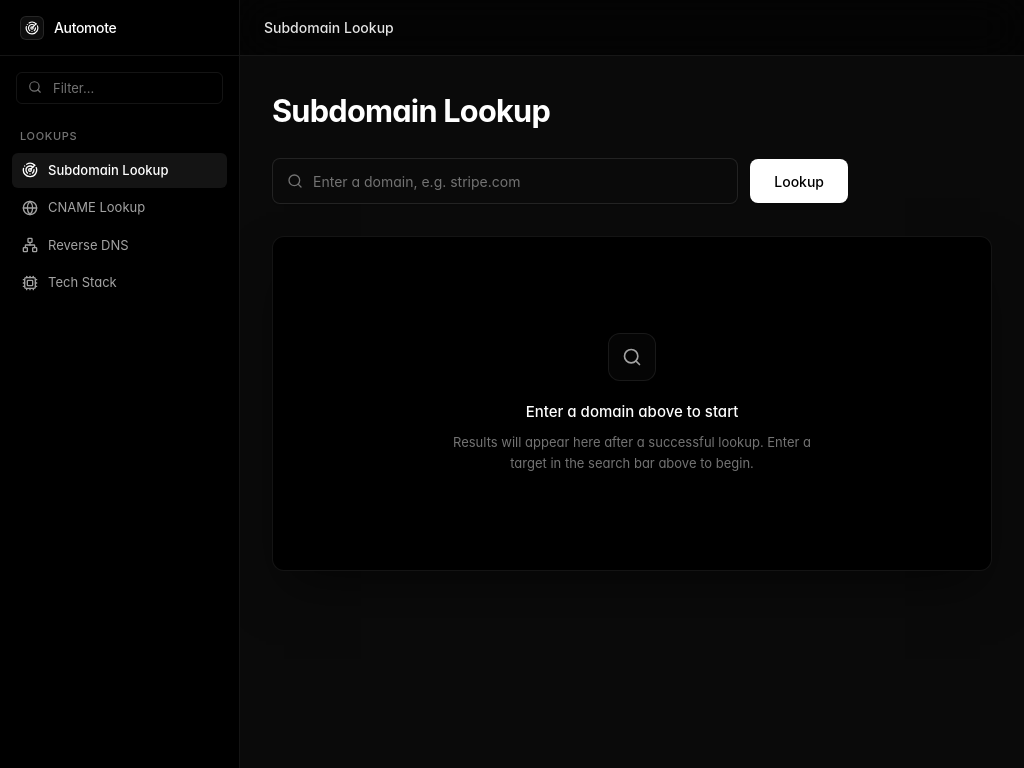
Test case: DashboardShell › shows an inline validation error for an invalid domain
The image size is (1024, 768).
Type "google" into the search field named "search or inspect a domain" at (505,181), box [273,159,737,203]
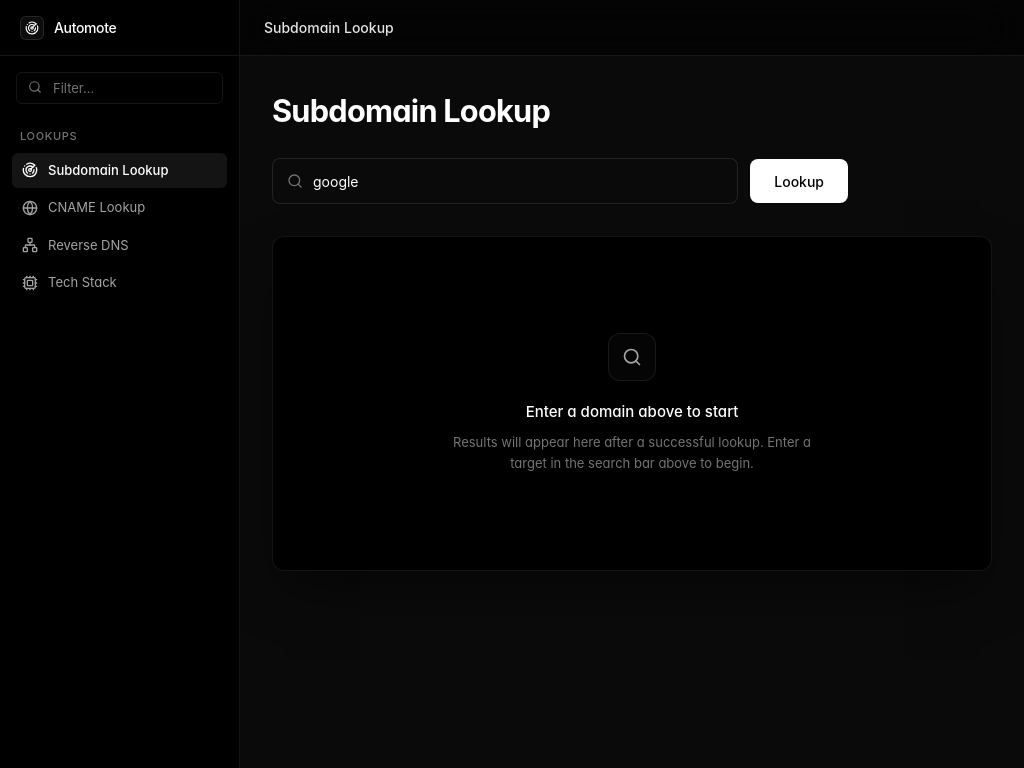
Submit the form named "subdomain lookup", box [272,158,848,204]
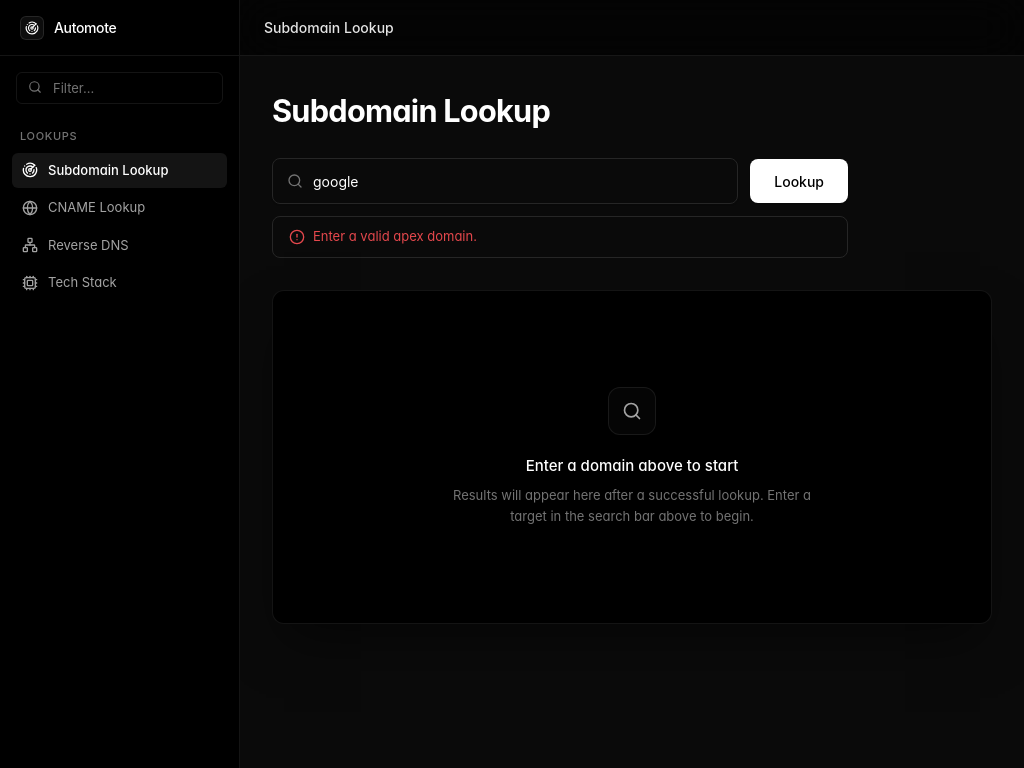
Expected: the text "Enter a valid apex domain." is shown, [313,227,477,247]
